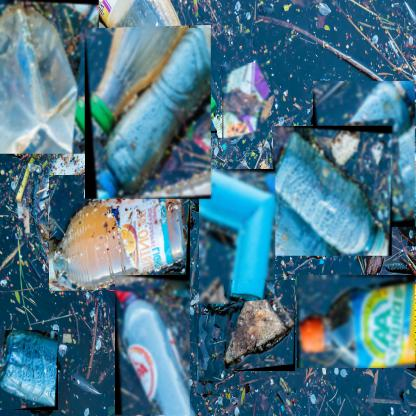bottle: (85, 28, 212, 200), (49, 175, 191, 292), (273, 126, 393, 257), (104, 0, 218, 134), (313, 81, 415, 229), (297, 275, 415, 370), (115, 275, 192, 415), (0, 330, 59, 411)
plastic-bag: (0, 0, 100, 155)
waste: (199, 170, 276, 306), (224, 280, 296, 372), (222, 63, 270, 140)
